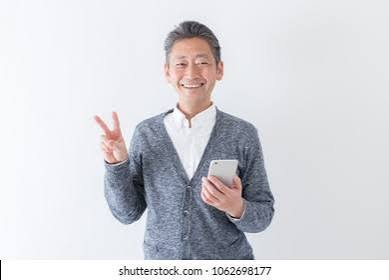peace_sign: (91, 109, 129, 165)
